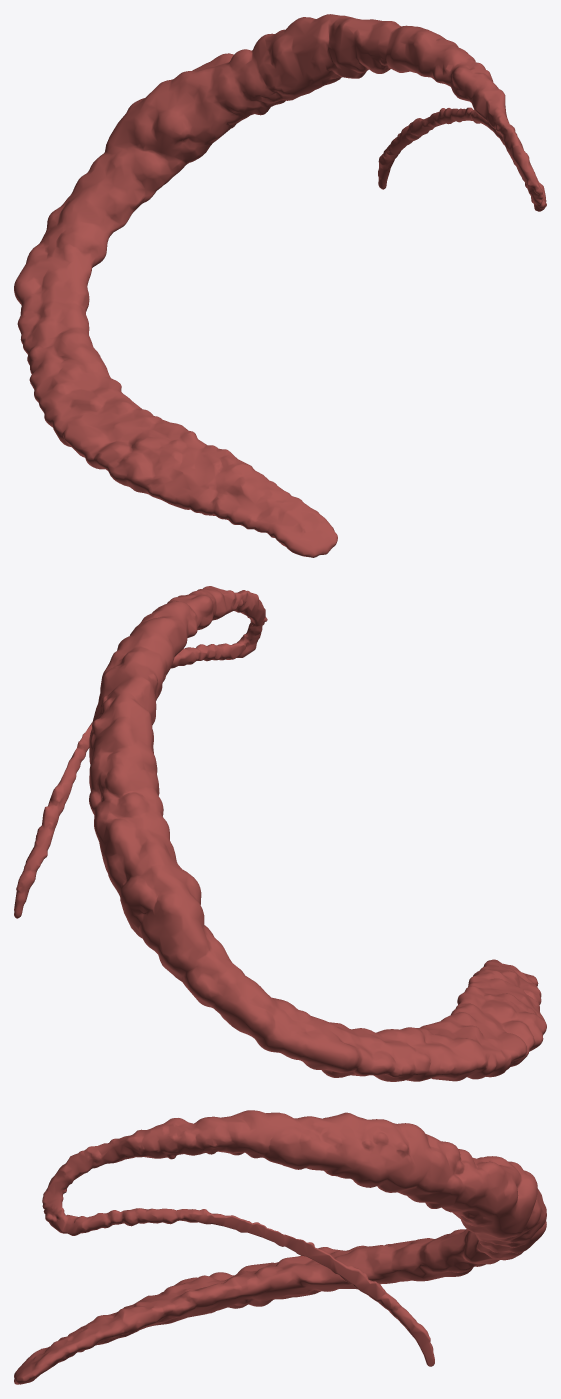
File: FMA274027.glb
3 renders of one model, top to bottom at view 1: azimuth 30°, elevation 25°; view 2: azimuth 150°, elevation 25°; view 3: azimuth 270°, elevation 25°, orthographic. The views are drawn at different scales.
Parts seen in each view (by area): view 1: FMA274027; view 2: FMA274027; view 3: FMA274027.
Part boxes in pixels (x1,y1,x2,y2): FMA274027: (14, 14, 546, 557); FMA274027: (14, 586, 546, 1081); FMA274027: (14, 1110, 546, 1384).
Size of the model in its own units: 0.0353 by 0.0321 by 0.041.
